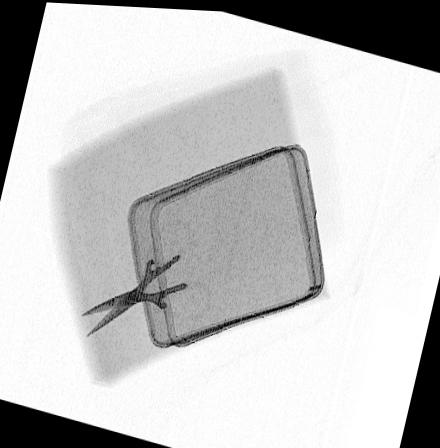Scissors: (77, 212, 217, 340)
